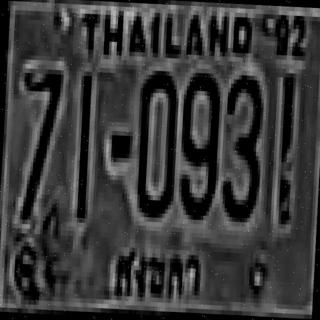N00: (134, 66, 178, 214)
N01: (73, 72, 94, 218)
N03: (219, 70, 263, 218)
N07: (18, 64, 62, 217)
N09: (177, 68, 220, 216)
P64: (112, 238, 206, 303)
